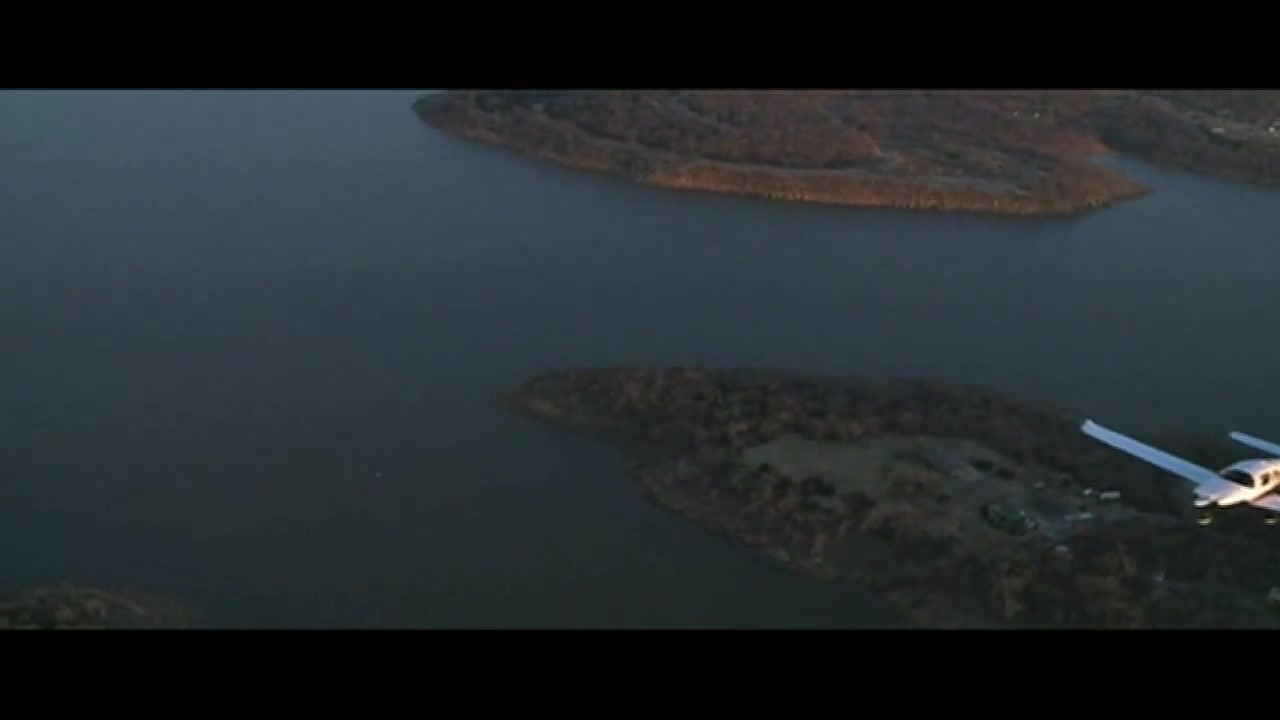aeroplane: (1078, 418, 1280, 531)
